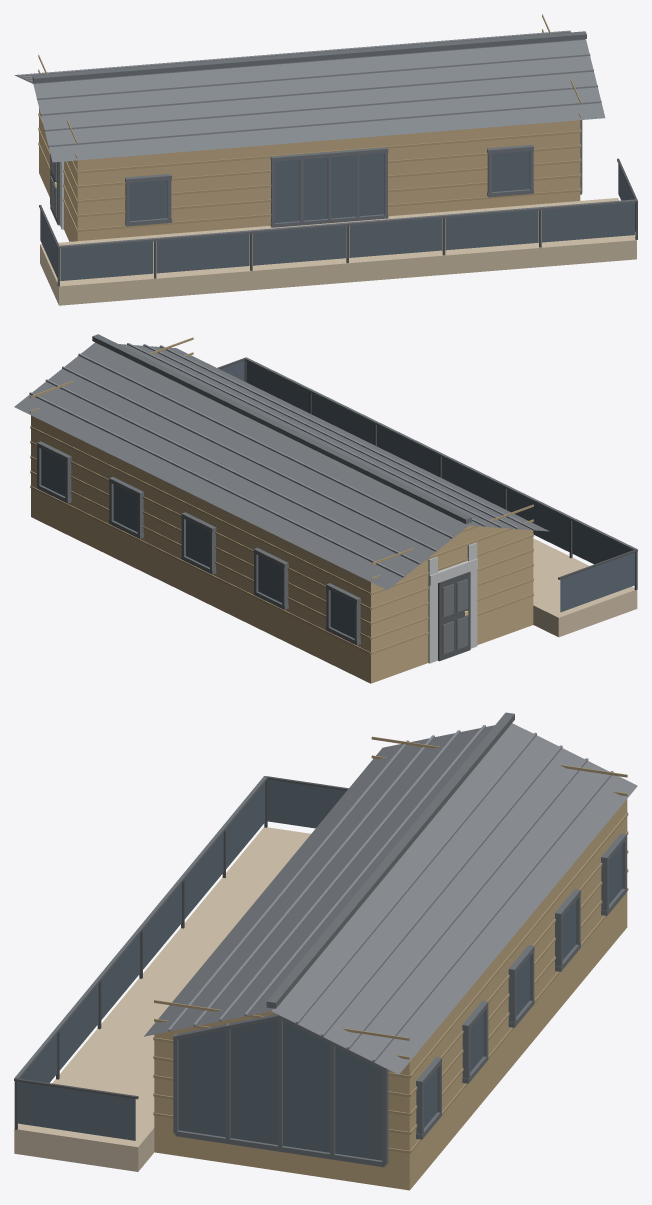
The picture shows the model from 3 angles, top to bottom: view 1: azimuth 30°, elevation 25°; view 2: azimuth 150°, elevation 25°; view 3: azimuth 270°, elevation 25°; orthographic projection. The views are drawn at different scales.
Parts seen in each view (by area): view 1: slate, door_wood, larch, slate_dk, slate_lt, door_wood_p, window_glass_004, window_glass_001, window_glass_002, window_glass_005, window_glass_006, window_glass_003 (+8 smaller); view 2: slate, door_wood, slate_dk, slate_lt, door_wood_p, larch, window_glass_007, stone_band, window_glass_002, door_dark_p, window_glass_005, window_glass_001 (+10 smaller); view 3: slate, door_wood, larch, window_glass_015, slate_dk, slate_lt, window_glass_008, door_wood_p, window_glass_007, pipe, window_glass_001, window_glass_002 (+4 smaller).
Part boxes in pixels (x1,y1,x2,y2): slate: (14, 30, 605, 162); door_wood: (39, 108, 580, 241); larch: (40, 198, 636, 305); slate_dk: (32, 31, 636, 248); slate_lt: (17, 30, 601, 147); door_wood_p: (38, 14, 581, 231); window_glass_004: (349, 218, 442, 257); window_glass_001: (60, 241, 153, 280); window_glass_002: (156, 233, 249, 273); window_glass_005: (445, 210, 538, 250); window_glass_006: (542, 202, 634, 242); window_glass_003: (253, 226, 345, 265); slate: (14, 342, 549, 590); door_wood: (31, 372, 533, 683); slate_dk: (37, 334, 636, 645); slate_lt: (29, 343, 534, 577); door_wood_p: (30, 337, 533, 654); larch: (533, 538, 637, 637); window_glass_007: (560, 552, 635, 612); stone_band: (428, 542, 477, 663); window_glass_002: (507, 489, 569, 551); door_dark_p: (442, 579, 467, 654); window_glass_005: (311, 393, 374, 444); window_glass_001: (572, 521, 631, 564); slate: (144, 723, 637, 1074); door_wood: (154, 799, 627, 1190); larch: (14, 827, 310, 1171); window_glass_015: (178, 1019, 382, 1160); slate_dk: (14, 712, 626, 1167); slate_lt: (168, 725, 613, 1062); window_glass_008: (17, 1081, 135, 1140); door_wood_p: (153, 736, 628, 1153); window_glass_007: (267, 779, 346, 828); pipe: (14, 776, 348, 1129); window_glass_001: (226, 782, 265, 868); window_glass_002: (184, 833, 223, 918).
Bounding box in the file's own units: 15.27 × 3.68 × 11.42.
